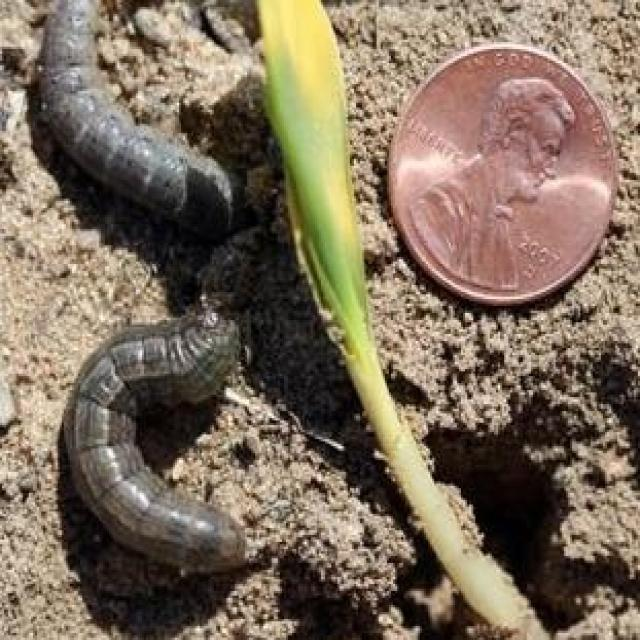army worm: (54, 299, 281, 577), (28, 3, 254, 234)
